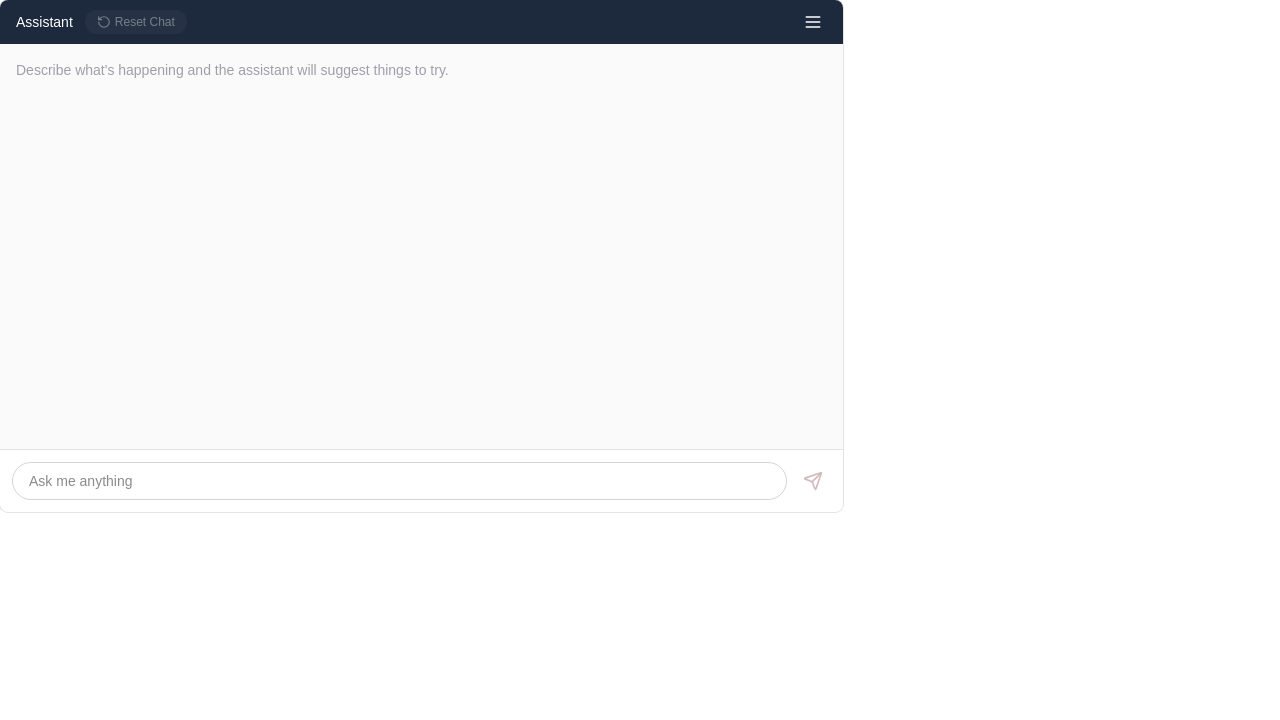
it: lists the conversation's suggestions under recent recommendations
In the field named "describe": (399, 481) [12, 462, 787, 500], type "He skipped dinner"
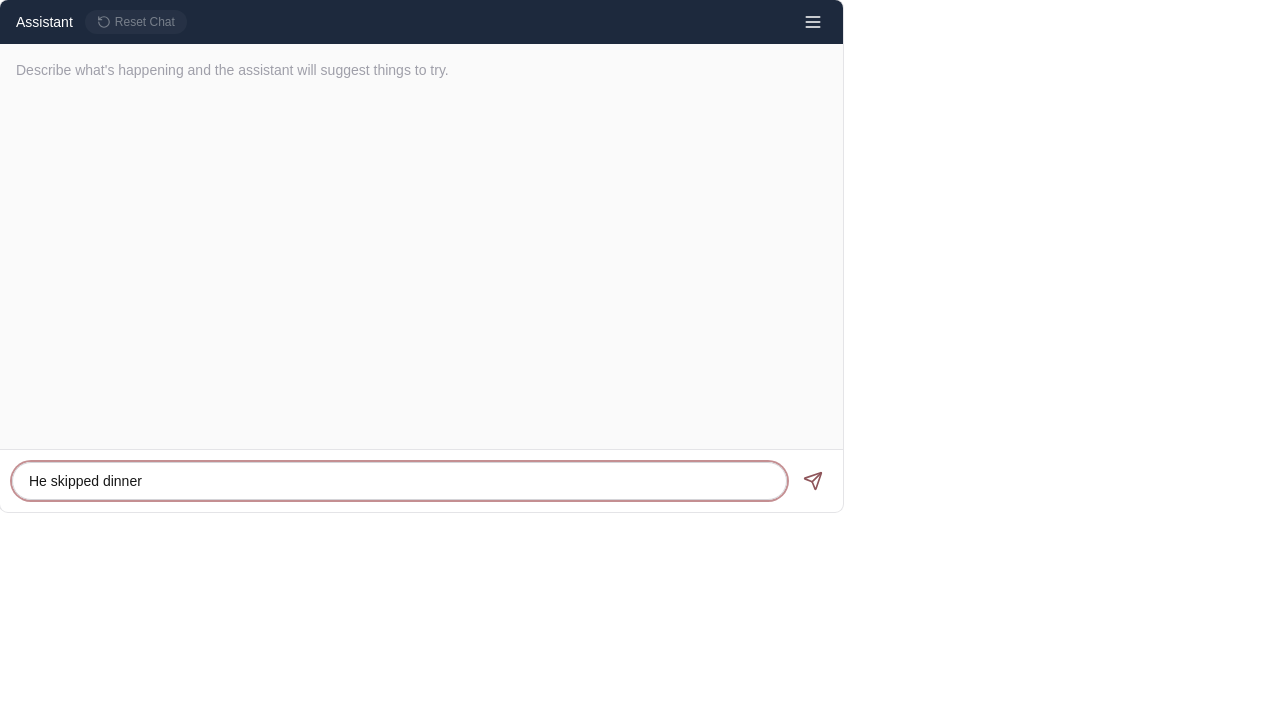
Click the button named "send": (813, 481) [795, 463, 831, 499]
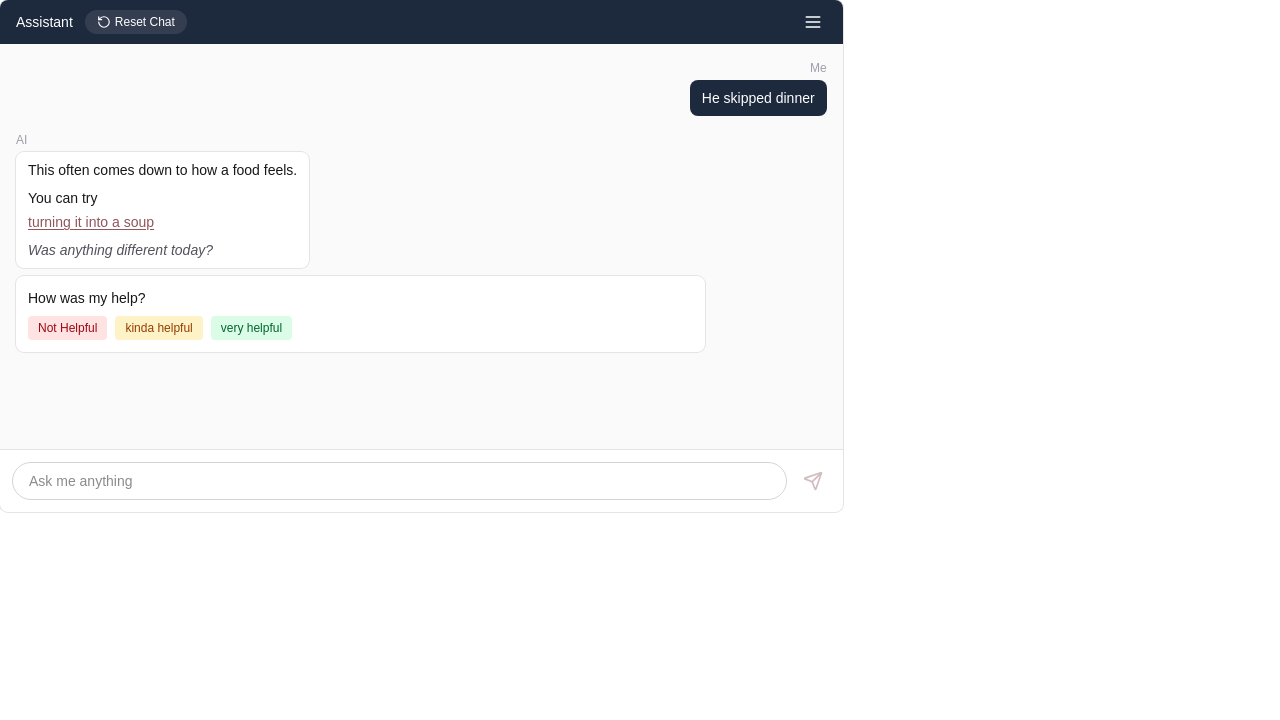
Expected: the text "Was anything different today?" is shown, [28, 242, 213, 258]
Click the button named "show ben's info": (813, 22) [799, 8, 827, 36]
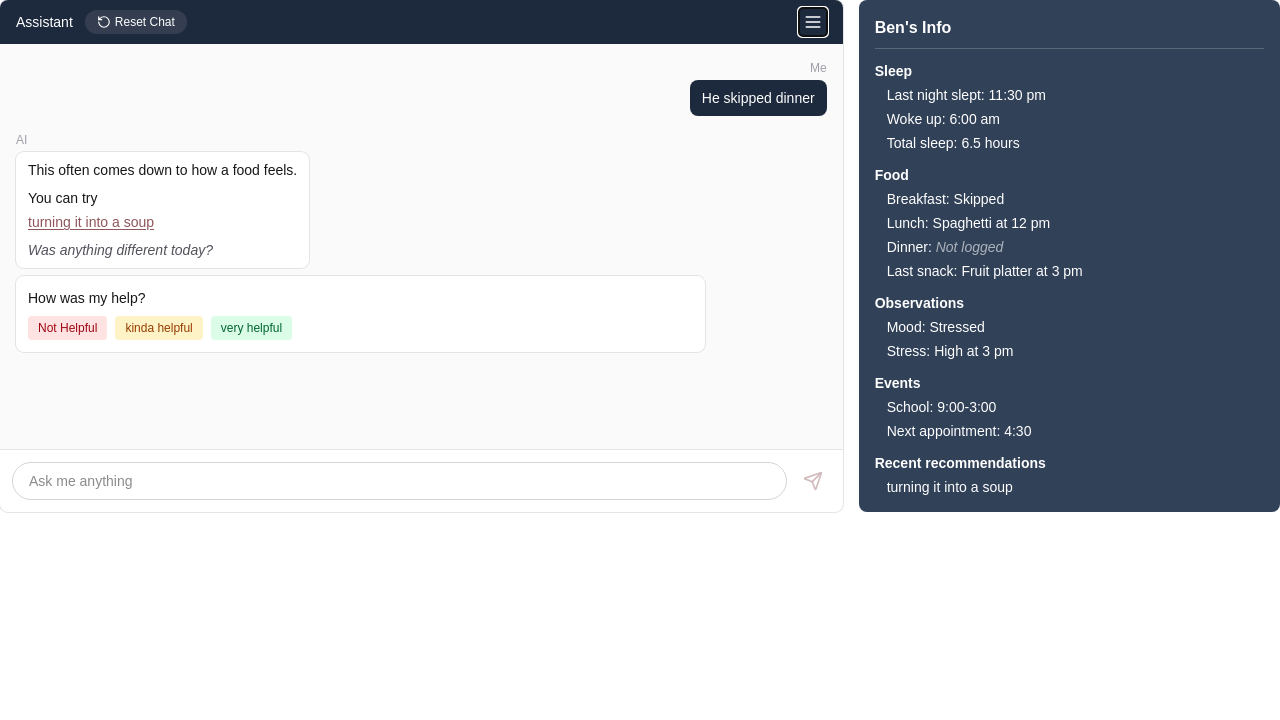
Expected: the text "Recent recommendations" is shown, [875, 455, 1046, 471]
Expected: the text "turning it into a soup" is shown, [887, 479, 1013, 495]
